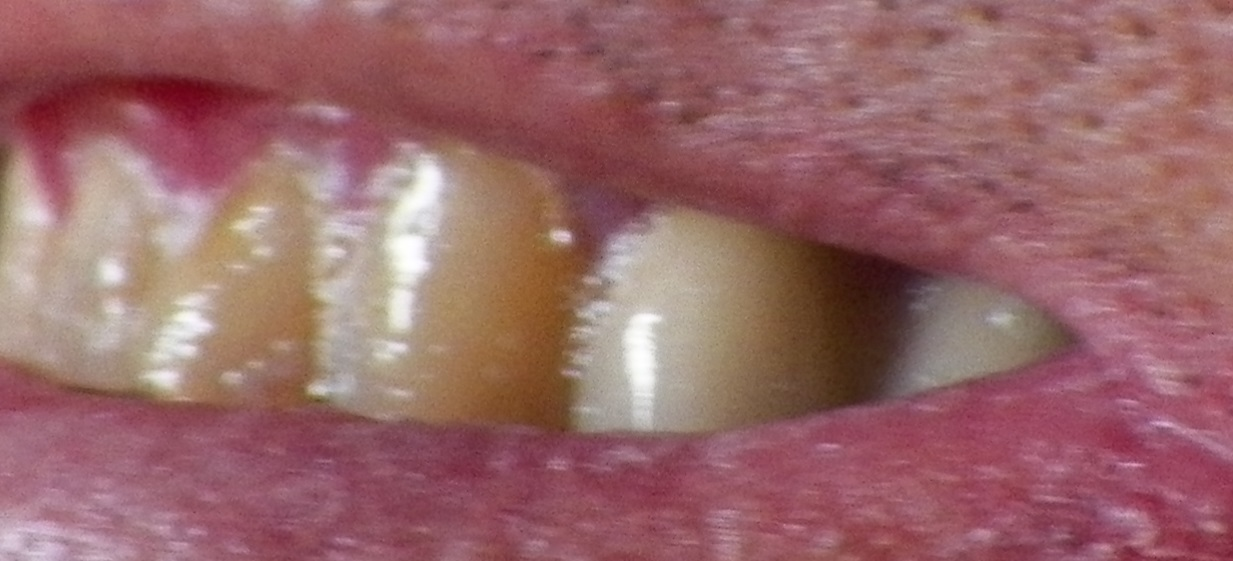boca: (1, 141, 1014, 434)
